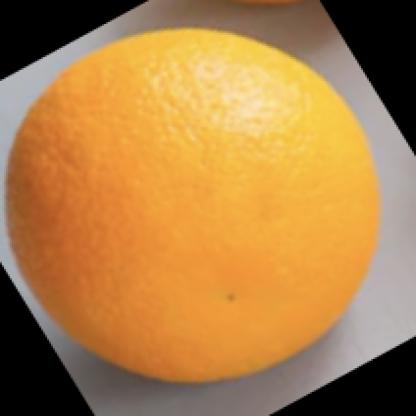fresh: (10, 28, 381, 385)
